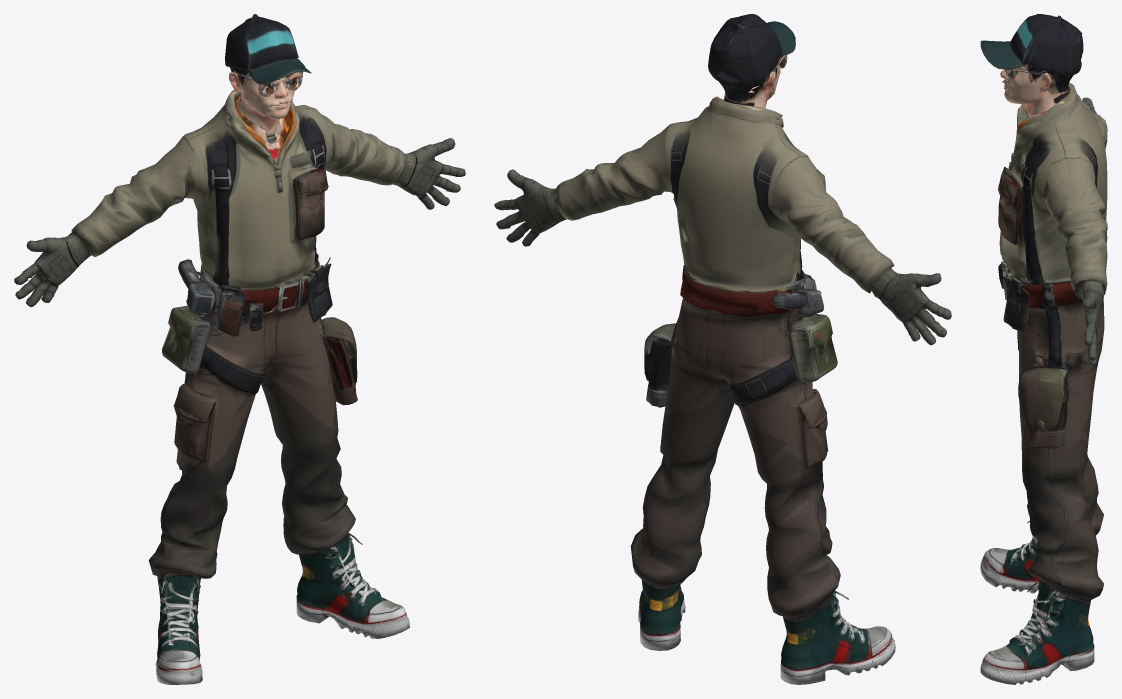
Rendered from chr_techy_t0.glb.
The picture shows the model from 3 angles, left to right: view 1: azimuth 30°, elevation 25°; view 2: azimuth 150°, elevation 25°; view 3: azimuth 270°, elevation 25°; orthographic projection. The views are drawn at different scales.
Bounding box in the file's own units: 0.7202 × 0.9512 × 0.1792.
Materials: 1 (1 with a texture image).
